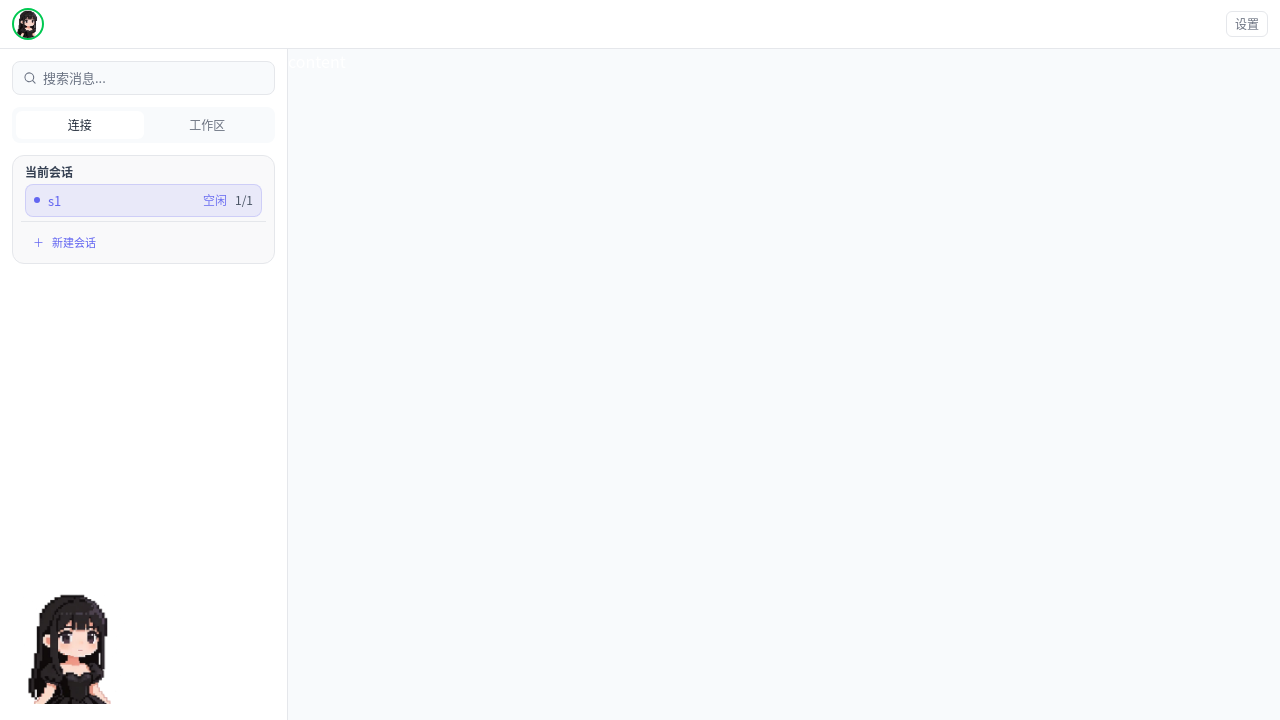
Test case: Layout › desktop layout › blocks invalid create names and creates valid files with refreshed tree feedback
Click the tab "工作区". click: (207, 124)
box: 144,110 -> 271,138
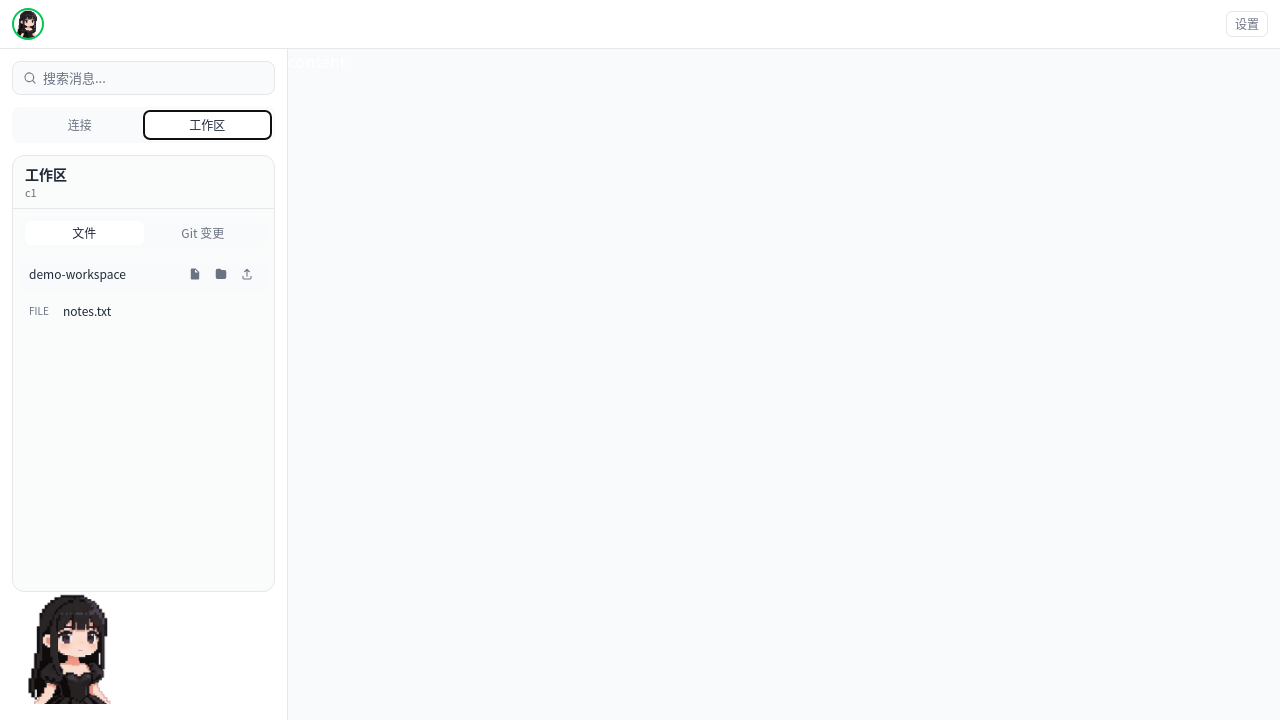
Click the button named "新建文件". click: (195, 274)
box: 184,263 -> 206,285
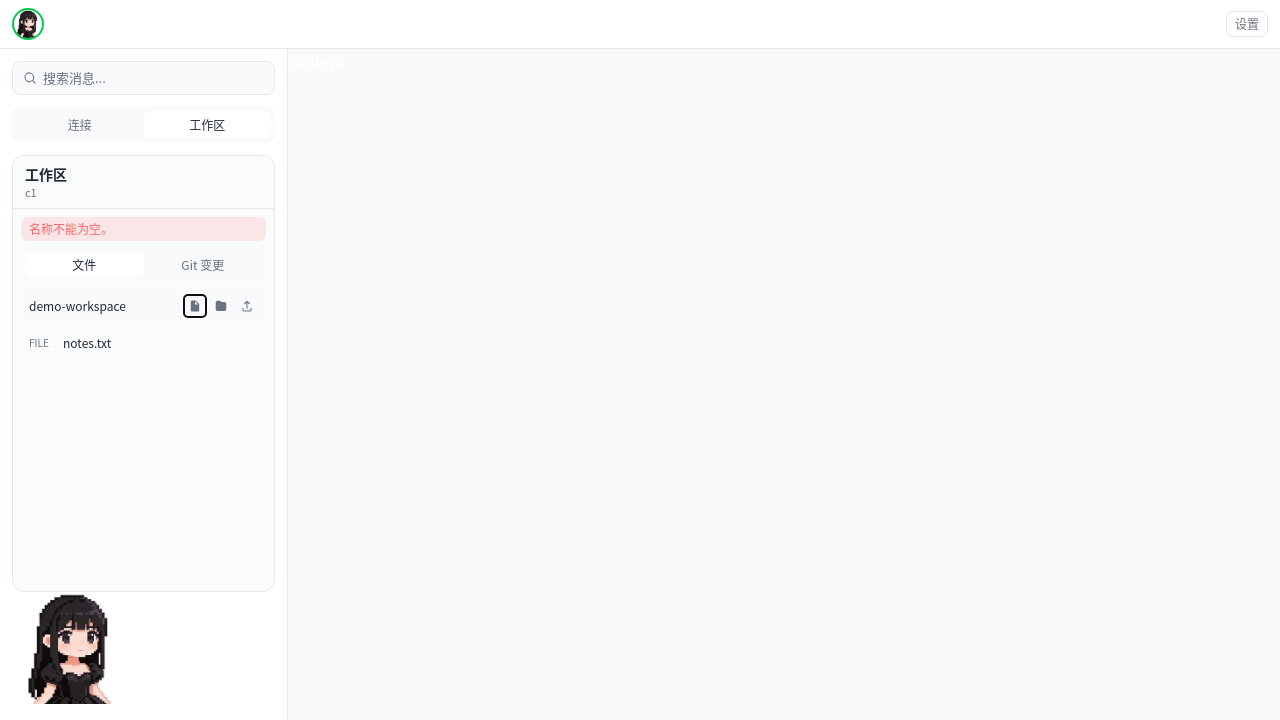
Expected: the text "名称不能为空。" is shown, 21,217 -> 266,241
Click the button named "新建文件". click: (195, 306)
box: 184,295 -> 206,317
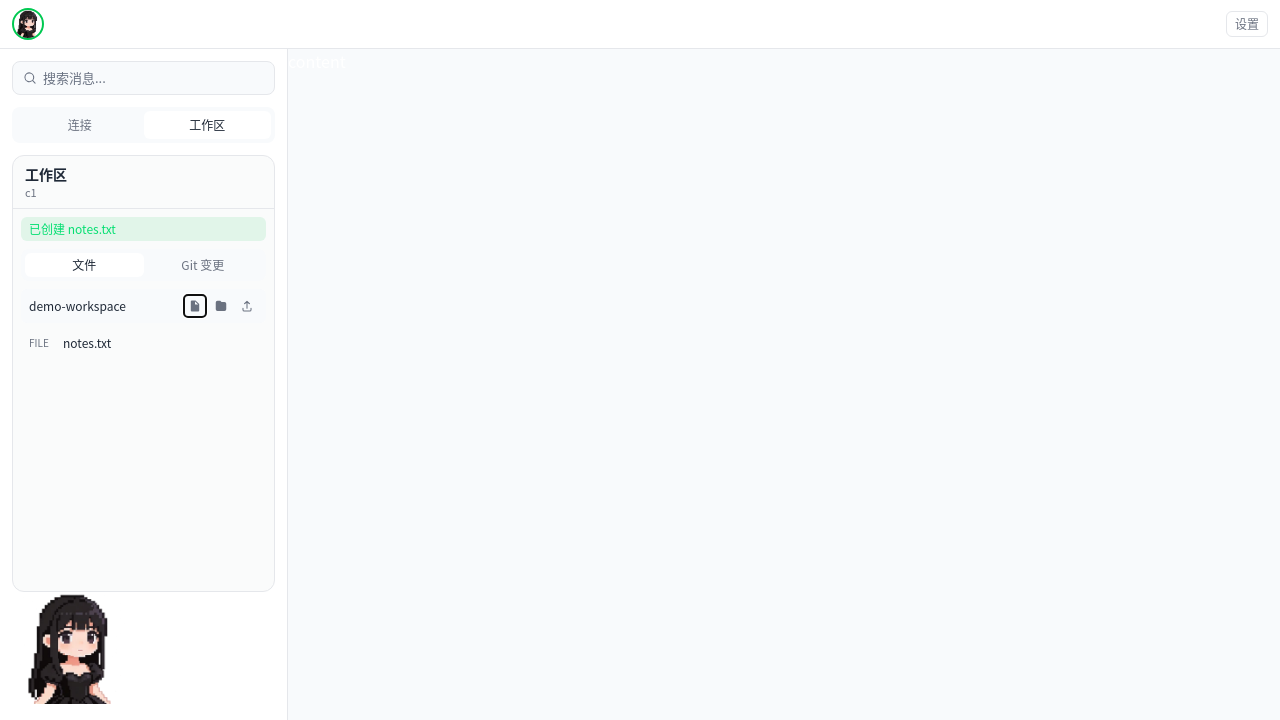
Expected: the button "FILE notes.txt" is shown, 21,331 -> 266,355
Expected: the text "已创建 notes.txt" is shown, 21,217 -> 266,241
